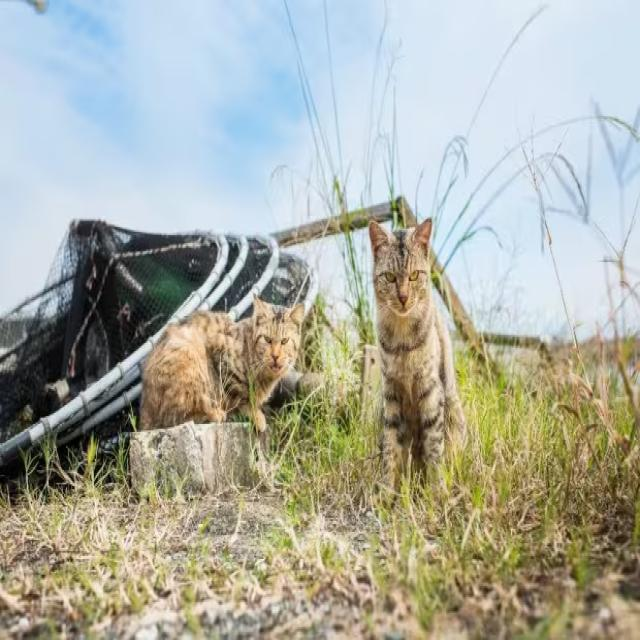cat: (369, 219, 466, 490), (142, 298, 304, 432)
